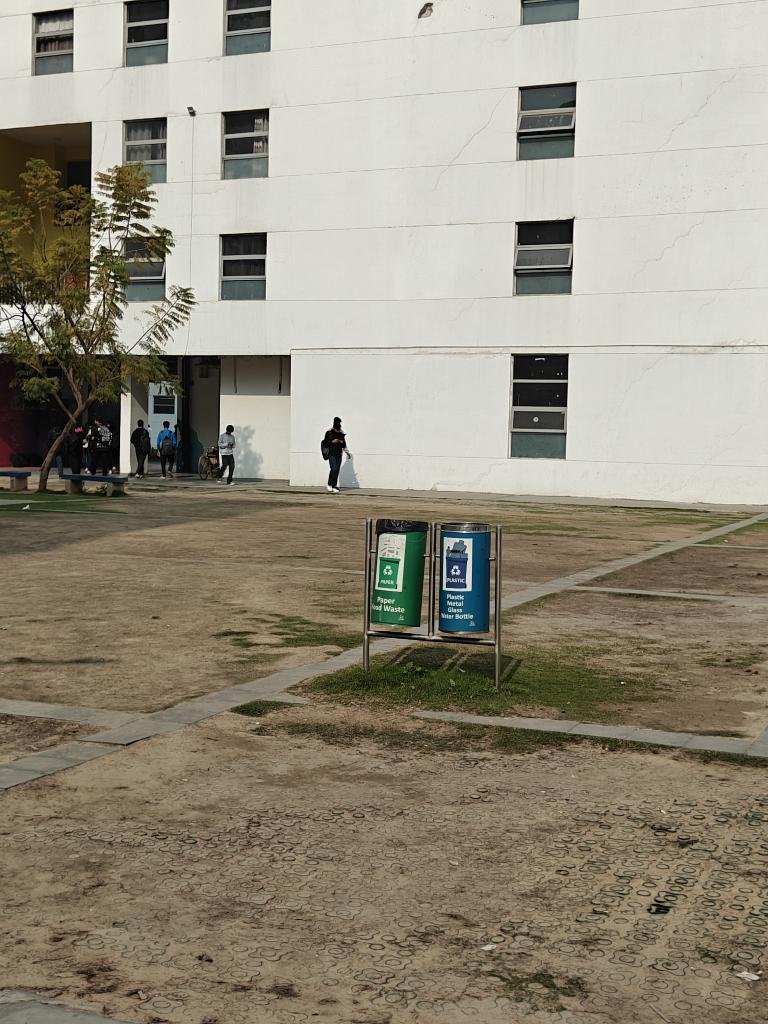dustbin: (361, 505, 508, 702)
